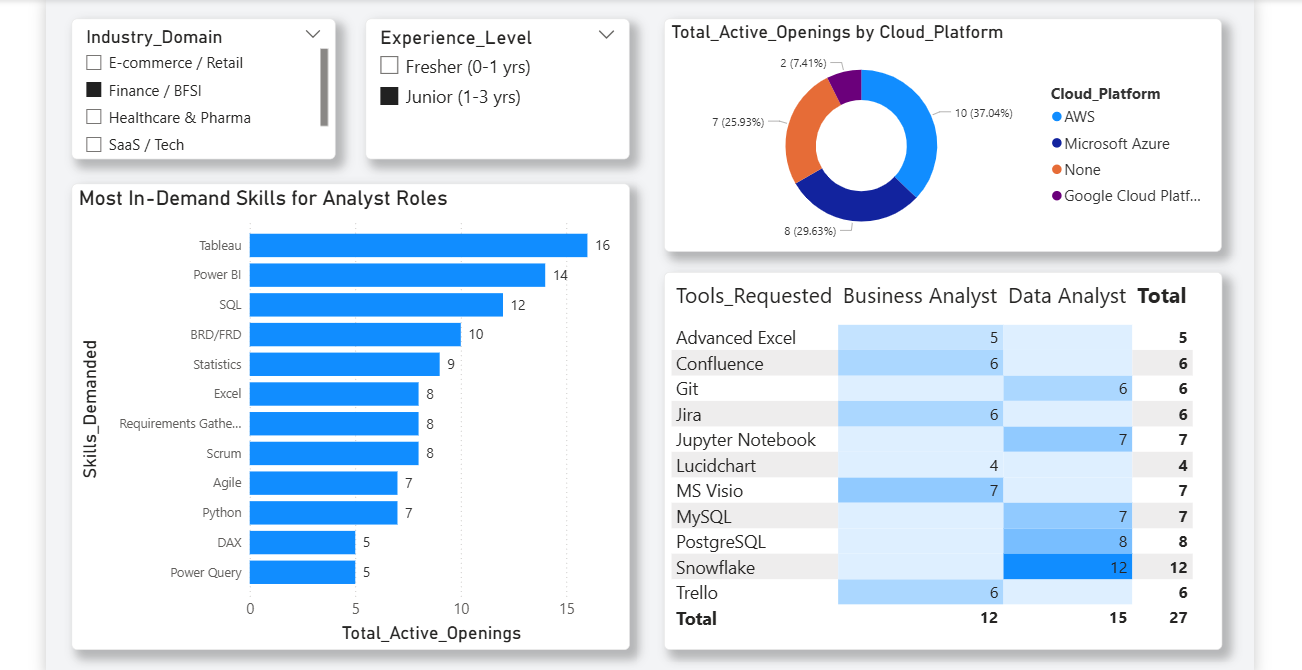

This screenshot's page, from the dashboard's own definition file:
{"tool":"powerbi","page":{"name":"Skills & Tooling Insights","canvas":[1280,720],"ordinal":1},"visuals":[{"type":"clusteredBarChart","title":"Most In-Demand Skills for Analyst Roles","fields":{"Category":["advanced_market_analysis_2026.Skills_Demanded"],"Y":["_Calculated Measures.Total_Active_Openings"]},"box":[27,195.6,591.7,494.7],"z":0},{"type":"donutChart","fields":{"Category":["advanced_market_analysis_2026.Cloud_Platform"],"Y":["_Calculated Measures.Total_Active_Openings"]},"box":[655.8,20.8,591.5,247.6],"z":1000},{"type":"pivotTable","fields":{"Rows":["advanced_market_analysis_2026.Tools_Requested"],"Columns":["advanced_market_analysis_2026.Role_Type"],"Values":["_Calculated Measures.Total_Active_Openings"]},"box":[655.3,289.5,591.7,400.8],"z":2000},{"type":"slicer","fields":{"Values":["advanced_market_analysis_2026.Industry_Domain"]},"box":[26.5,20.8,279.7,149.3],"z":3000},{"type":"slicer","fields":{"Values":["advanced_market_analysis_2026.Experience_Level"]},"box":[338.3,20.8,279.7,149.3],"z":4000}]}

Visuals, with their boxes on the page's 1280x720 design canvas (x1, y1, x2, y2). These are canvas units, not pixel positions in the 1302x670 screenshot, which may show the page scaled, cropped or inside an application window:
"Most In-Demand Skills for Analyst Roles" clusteredBarChart: BBox(27, 196, 619, 690)
donutChart - advanced_market_analysis_2026.Cloud_Platform x _Calculated Measures.Total_Active_Openings: BBox(656, 21, 1247, 268)
pivotTable - advanced_market_analysis_2026.Tools_Requested x advanced_market_analysis_2026.Role_Type: BBox(655, 290, 1247, 690)
slicer - advanced_market_analysis_2026.Industry_Domain: BBox(26, 21, 306, 170)
slicer - advanced_market_analysis_2026.Experience_Level: BBox(338, 21, 618, 170)
